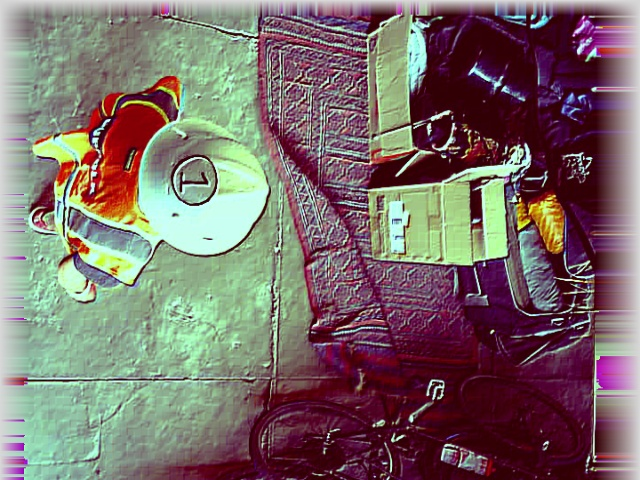one: (172, 156, 217, 205)
